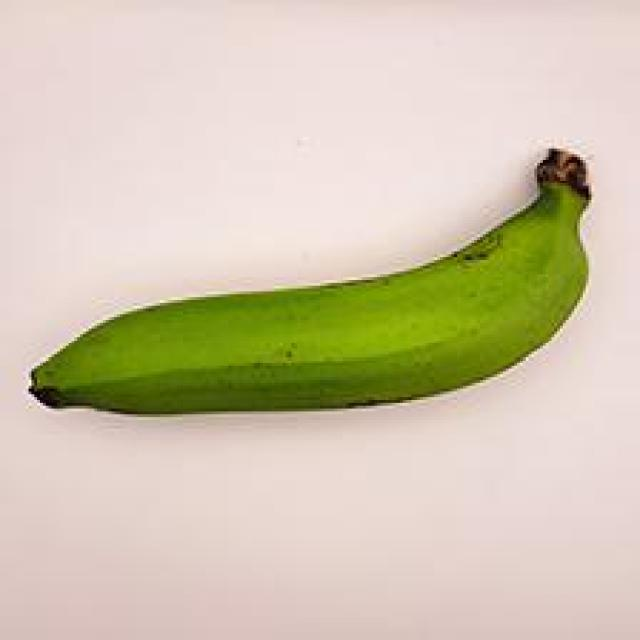Raw: (13, 120, 617, 449)
